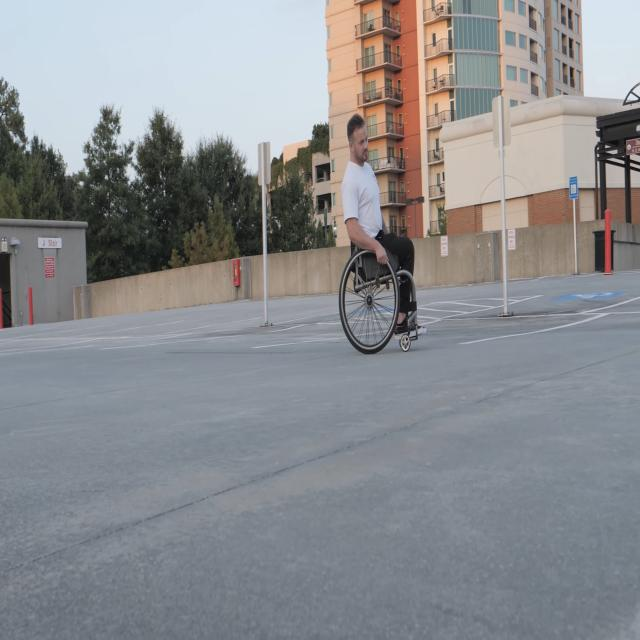wheelchairs: (339, 196, 421, 354)
